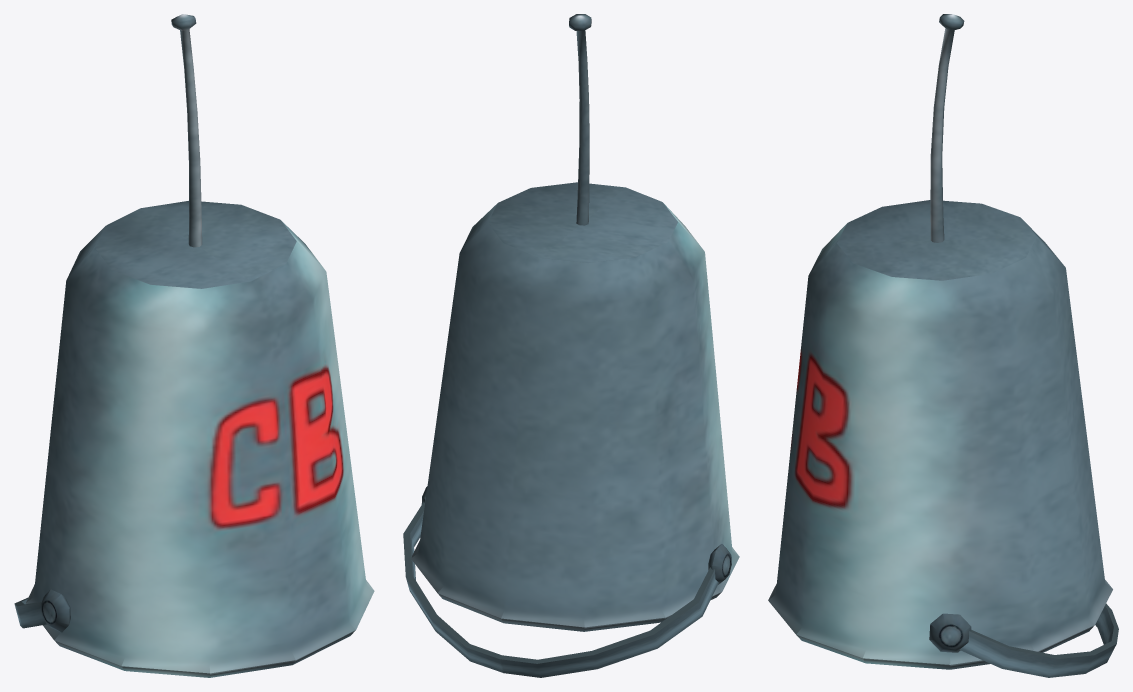
The model's file is ChumBucket_WorldItem.fbx.
3 views of the same model, side by side, from view 1: azimuth 30°, elevation 25°; view 2: azimuth 150°, elevation 25°; view 3: azimuth 270°, elevation 25° (orthographic). The views are drawn at different scales.
Visible parts, largest first — view 1: Cylinder01_0; view 2: Cylinder01_0; view 3: Cylinder01_0.
Part boxes in pixels (bbox=[...]): Cylinder01_0: bbox=[14, 14, 374, 677]; Cylinder01_0: bbox=[403, 14, 739, 677]; Cylinder01_0: bbox=[768, 14, 1118, 677].
Size of the model in its own units: 0.1145 by 0.2265 by 0.1138.
